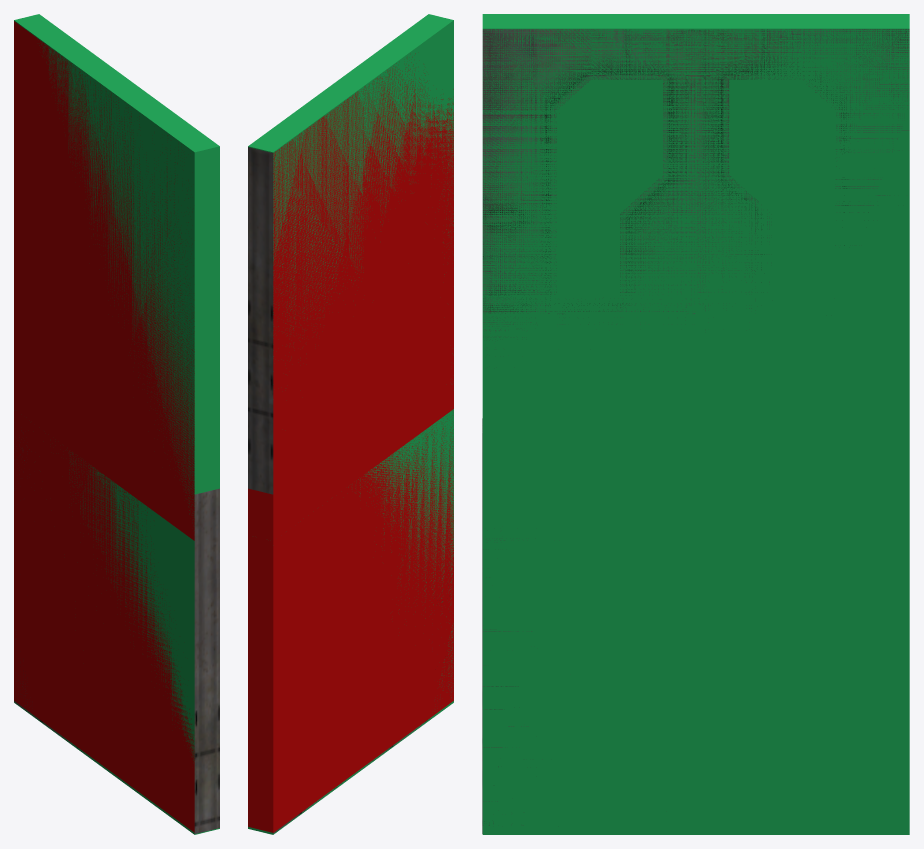
File: SciFi_door.DAE
3 renders of one model, left to right at view 1: azimuth 30°, elevation 25°; view 2: azimuth 150°, elevation 25°; view 3: azimuth 270°, elevation 25°, orthographic. The views are drawn at different scales.
Parts seen in each view (by area): view 1: colbox-01, bounds, colbox-02, SciFi_Door_Bottom; view 2: colbox-01, colbox-02, bounds, SciFi_Door_Top; view 3: bounds, SciFi_Door_Top.
Part boxes in pixels (box(x1,y1,x2,y2)): colbox-01: box(14, 21, 194, 540); bounds: box(14, 14, 219, 834); colbox-02: box(14, 409, 194, 832); SciFi_Door_Bottom: box(14, 430, 219, 833); colbox-01: box(248, 53, 453, 540); colbox-02: box(248, 426, 453, 832); bounds: box(248, 14, 453, 834); SciFi_Door_Top: box(248, 147, 273, 494); bounds: box(482, 14, 909, 834); SciFi_Door_Top: box(482, 29, 909, 337).
Size of the model in its own units: 14.19 by 177 by 368.
